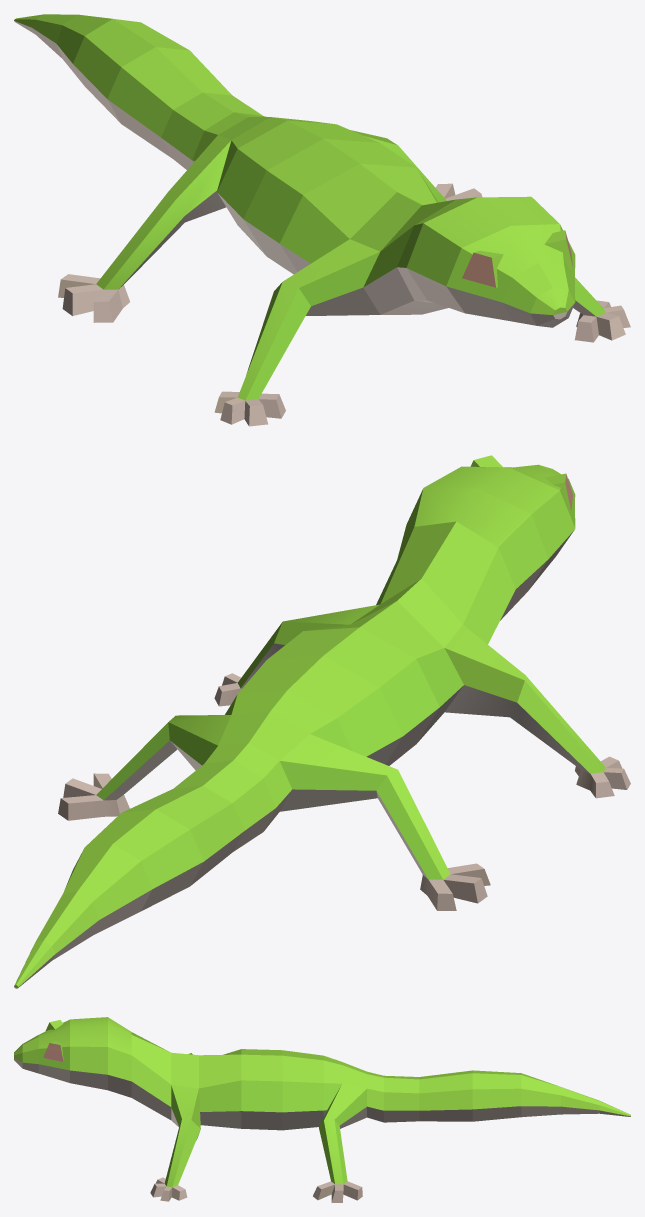
File: eqjMAgmr-pM.glb
The picture shows the model from 3 angles, top to bottom: view 1: azimuth 30°, elevation 25°; view 2: azimuth 150°, elevation 25°; view 3: azimuth 270°, elevation 25°; orthographic projection. The views are drawn at different scales.
Visible parts, largest first — view 1: Geo_Gecko; view 2: Geo_Gecko; view 3: Geo_Gecko.
Part boxes in pixels (bbox=[...]): Geo_Gecko: bbox=[14, 14, 630, 426]; Geo_Gecko: bbox=[14, 455, 630, 988]; Geo_Gecko: bbox=[14, 1017, 630, 1202].
Bounding box in the file's own units: 2.04 × 0.9997 × 4.64.
Materials: 1 (1 with a texture image).
